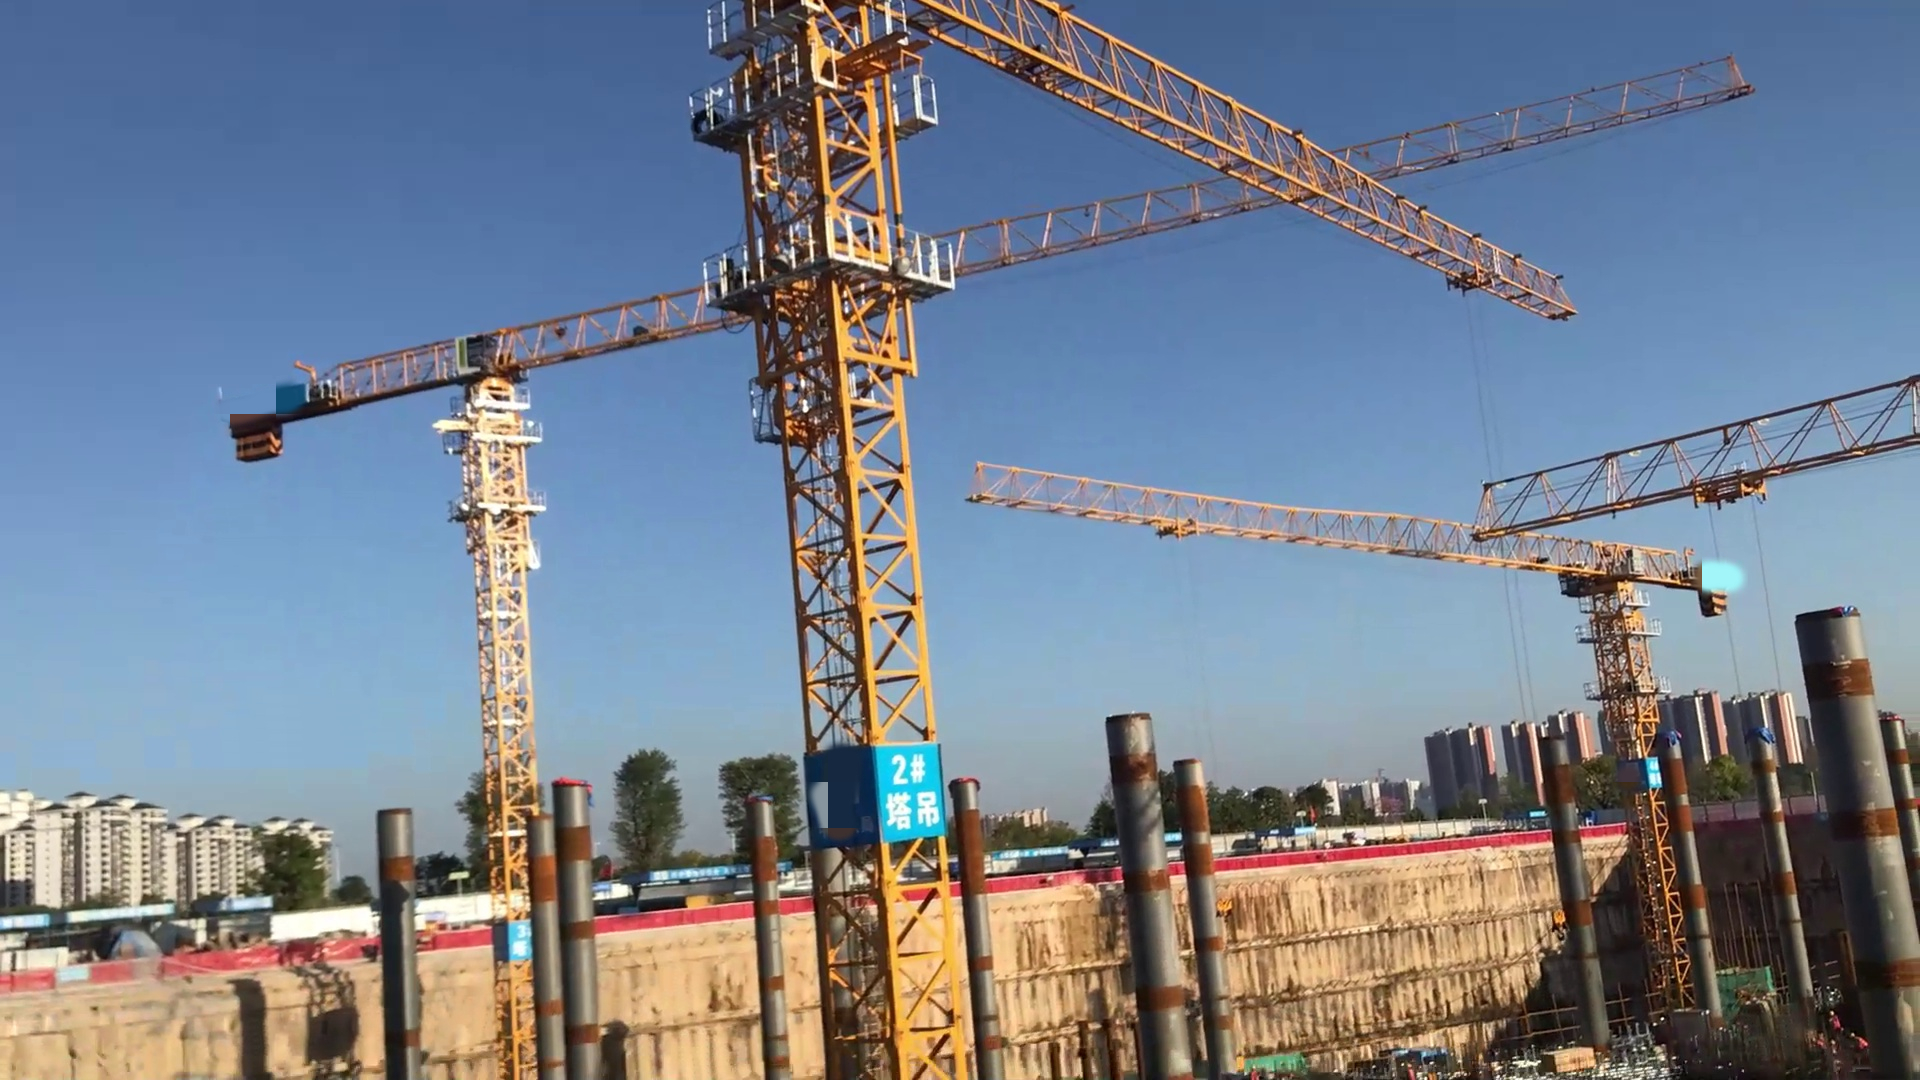helmet: (1829, 1008, 1835, 1017)
hook: (1545, 906, 1573, 952), (1212, 891, 1241, 923)
person: (1810, 1032, 1829, 1064), (1826, 1008, 1845, 1037), (1851, 1030, 1870, 1056)
slogan: (866, 744, 955, 838)
